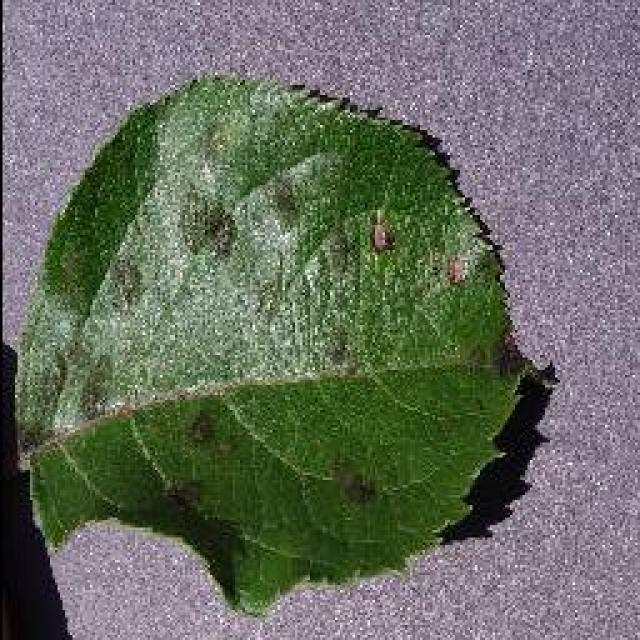apple scab disease: (12, 70, 538, 615)
